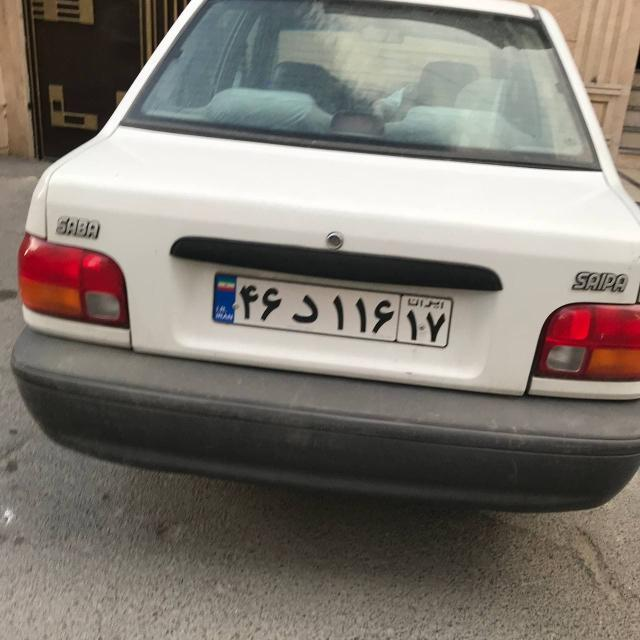Plates: (208, 271, 453, 350)
